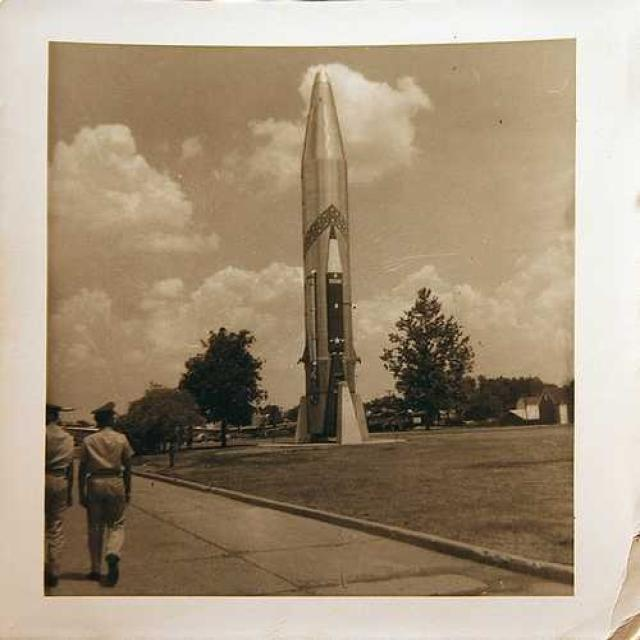missile: (292, 62, 374, 457)
